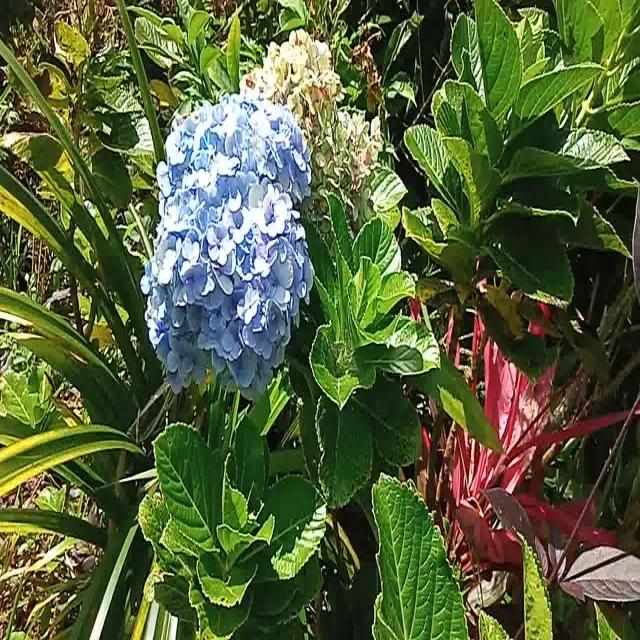Flower: (147, 93, 309, 396)
